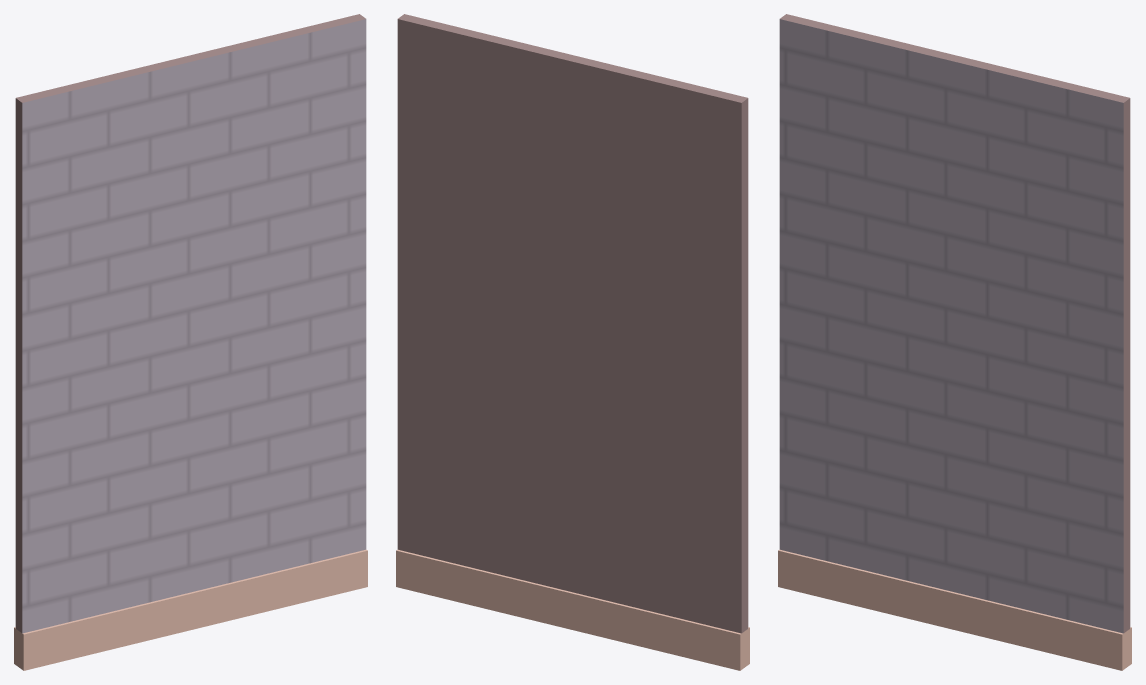
Rendered from SM_Wall_2_09.fbx.
3 views of the same model, side by side, from view 1: azimuth 30°, elevation 25°; view 2: azimuth 150°, elevation 25°; view 3: azimuth 330°, elevation 25° (orthographic).
Parts seen in each view (by area): view 1: SM_Wall_2_09; view 2: SM_Wall_2_09; view 3: SM_Wall_2_09.
Part boxes in pixels (x1,y1,x2,y2): SM_Wall_2_09: [14, 14, 367, 670]; SM_Wall_2_09: [396, 14, 749, 670]; SM_Wall_2_09: [778, 14, 1131, 670].
Bounding box in the file's own units: 188 × 295 × 9.16.
